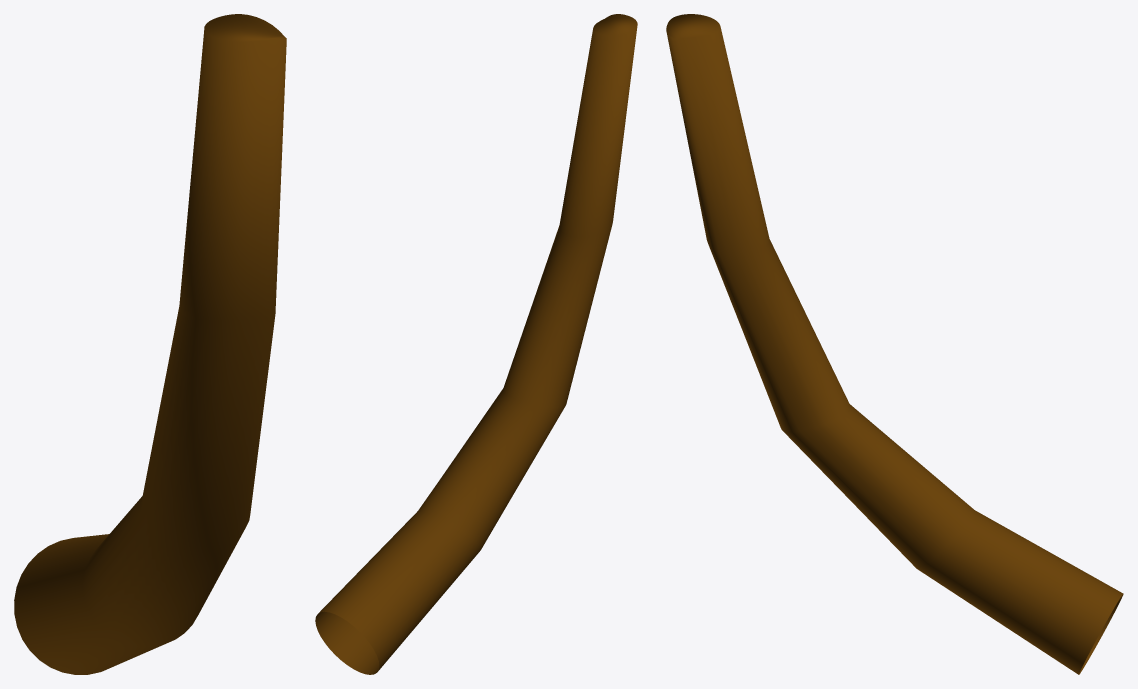
Rendered from Ramo2.fbx.
3 renders of one model, left to right at view 1: azimuth 30°, elevation 25°; view 2: azimuth 150°, elevation 25°; view 3: azimuth 270°, elevation 25°, orthographic. The views are drawn at different scales.
Visible parts, largest first — view 1: Ramo2; view 2: Ramo2; view 3: Ramo2.
Boxes of the visible parts, x1,y1,x2,y2 form: Ramo2: (14, 14, 286, 674); Ramo2: (315, 14, 637, 674); Ramo2: (666, 14, 1123, 674).
Bounding box in the file's own units: 130 × 481 × 331.
